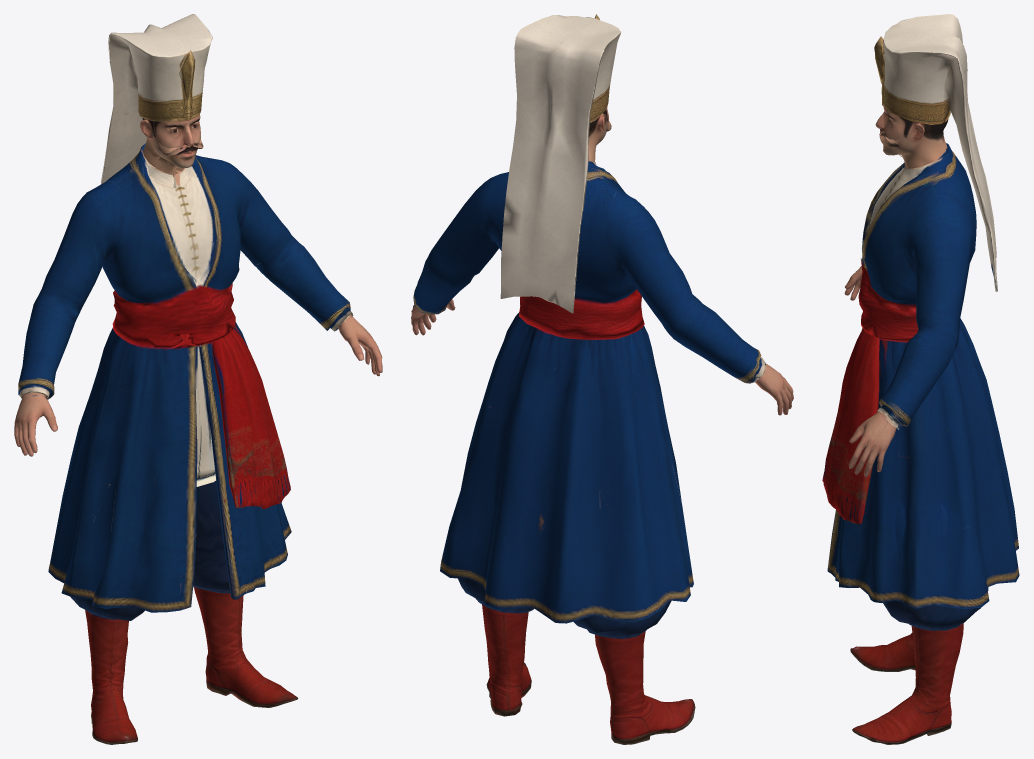
The model's file is Meshy_AI_model.glb.
3 views of the same model, side by side, from view 1: azimuth 30°, elevation 25°; view 2: azimuth 150°, elevation 25°; view 3: azimuth 270°, elevation 25° (orthographic). The views are drawn at different scales.
Size of the model in its own units: 0.5599 by 1 by 0.2691.
1 material, 1 textured.
